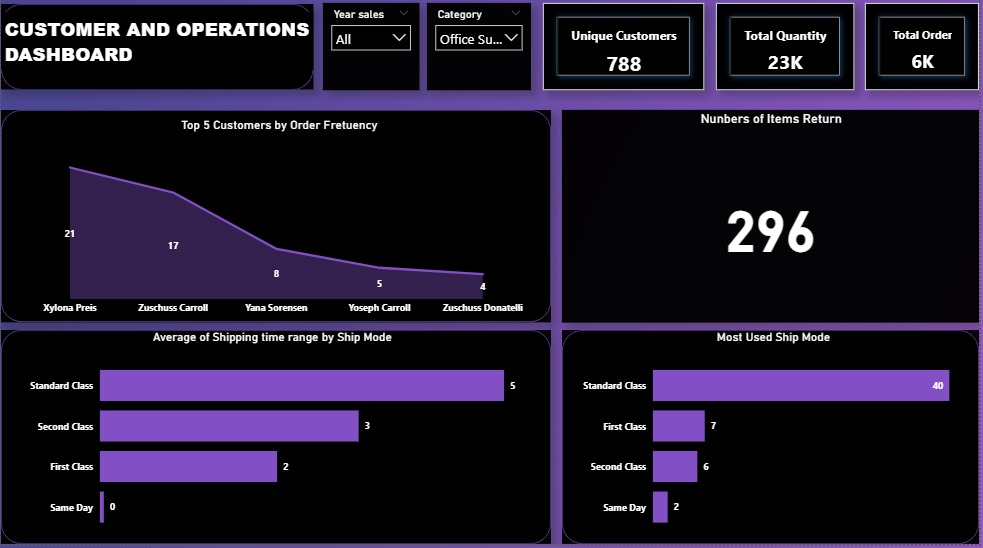

This screenshot's page, from the dashboard's own definition file:
{"tool":"powerbi","page":{"name":"Customers","canvas":[1280,720],"ordinal":2},"visuals":[{"type":"shape","box":[724,434.9,556,284.9],"z":0},{"type":"shape","box":[0,433.5,719.8,286.3],"z":1000},{"type":"shape","box":[0,130.8,719.8,298.7],"z":2000},{"type":"stackedAreaChart","title":"Top 5 Customers by Order Fretuency","fields":{"Category":["Order.Customer Name"],"Y":["Order.Total Order"]},"box":[31.4,162.3,666.3,267.1],"z":3000},{"type":"cardVisual","fields":{"Data":["Order.Total Quantity"]},"box":[920.8,12.4,180.3,112.9],"z":4000},{"type":"cardVisual","fields":{"Data":["Order.Total Order"]},"box":[1119,12.4,161,112.9],"z":5000},{"type":"cardVisual","fields":{"Data":["Order.Unique Customers"]},"box":[697.8,12.4,210.6,112.9],"z":6000},{"type":"clusteredBarChart","fields":{"Category":["Order.Ship Mode"],"Y":["Avg(Order.Shipping time range)"]},"box":[31.4,439.9,648,280.1],"z":7000},{"type":"barChart","title":"Most Used Ship Mode","fields":{"Category":["Order.Ship Mode"],"Y":["CountNonNull(Order.Ship Mode)"]},"box":[755.3,439.9,511.9,280.1],"z":8000},{"type":"card","title":"Nunbers of Items Return","fields":{"Values":["Return.Measure"]},"box":[724,132.1,556,297.3],"z":9000},{"type":"slicer","fields":{"Values":["Order.Category"]},"box":[547.8,12.4,136.3,112.9],"z":10000},{"type":"slicer","fields":{"Values":["Order.Year sales"]},"box":[414.3,12.4,126.6,112.9],"z":11000},{"type":"shape","box":[0,13,409,112.3],"z":12000},{"type":"textbox","box":[0,23,409,76.3],"z":13000}]}

Visuals, with their boxes in screenshot pixels (x1, y1, x2, y2), scaled from the page's 1280x720 canvas onto the 983x548 screenshot:
shape: locate(556, 331, 982, 547)
shape: locate(0, 330, 553, 547)
shape: locate(0, 100, 553, 327)
"Top 5 Customers by Order Fretuency" stackedAreaChart: locate(24, 124, 536, 327)
cardVisual - Order.Total Quantity: locate(707, 9, 846, 95)
cardVisual - Order.Total Order: locate(859, 9, 982, 95)
cardVisual - Order.Unique Customers: locate(536, 9, 698, 95)
clusteredBarChart - Order.Ship Mode x Avg(Order.Shipping time range): locate(24, 335, 522, 547)
"Most Used Ship Mode" barChart: locate(580, 335, 973, 547)
"Nunbers of Items Return" card: locate(556, 101, 982, 327)
slicer - Order.Category: locate(421, 9, 525, 95)
slicer - Order.Year sales: locate(318, 9, 415, 95)
shape: locate(0, 10, 314, 95)
textbox: locate(0, 18, 314, 76)
